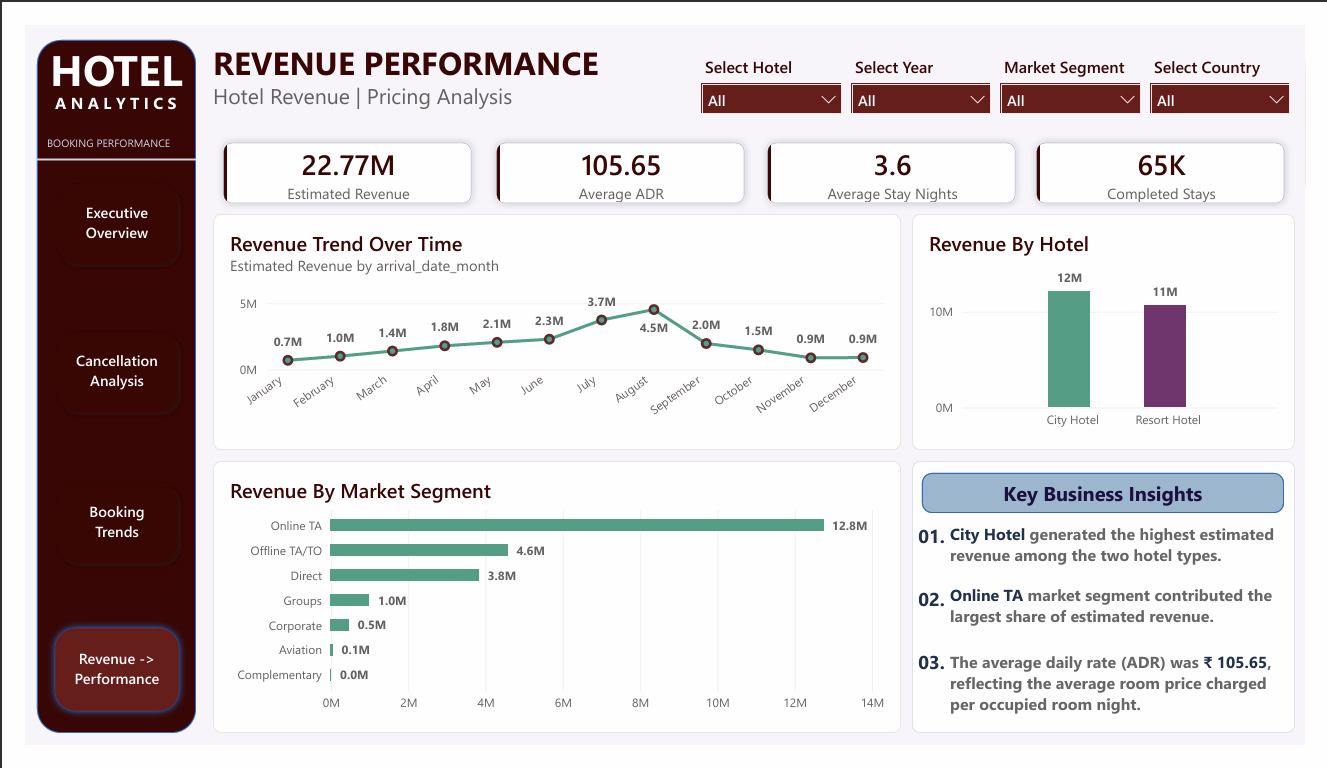

What the dashboard file says about the page in this screenshot:
{"tool":"powerbi","page":{"name":"Revenue Performance","canvas":[1280,720],"ordinal":3},"visuals":[{"type":"textbox","box":[186.6,13.7,1082.7,81],"z":0},{"type":"textbox","box":[186.6,54.9,465.2,39.8],"z":1000},{"type":"shape","box":[11,13.7,159.2,693],"z":2000},{"type":"textbox","box":[11,13.7,159.2,65.9],"z":3000},{"type":"textbox","box":[20.6,105.7,149.6,28.8],"z":4000},{"type":"shape","box":[11,119.4,159.2,28.8],"z":5000},{"type":"actionButton","box":[20.6,148.2,140,98.8],"z":6000},{"type":"textbox","box":[28.8,65.9,141.3,28.8],"z":7000},{"type":"actionButton","box":[20.6,296.4,140,98.8],"z":8000},{"type":"actionButton","box":[20.6,447.3,140,98.8],"z":9000},{"type":"actionButton","box":[20.6,594.2,140,98.8],"z":10000},{"type":"cardVisual","fields":{"Data":["Hotel Measures.Estimated Revenue"]},"box":[186.6,105.7,269,82.3],"z":11000},{"type":"slicer","fields":{"Values":["public hotel_bookings_unique.hotel"]},"box":[671,30.2,149.6,64.5],"z":12000},{"type":"slicer","fields":{"Values":["public hotel_bookings_unique.arrival_date_year"]},"box":[820.6,30.2,149.6,64.5],"z":13000},{"type":"slicer","fields":{"Values":["public hotel_bookings_unique.country"]},"box":[1119.7,30.2,149.6,64.5],"z":14000},{"type":"slicer","fields":{"Values":["public hotel_bookings_unique.market_segment"]},"box":[970.2,30.2,149.6,64.5],"z":15000},{"type":"cardVisual","fields":{"Data":["Hotel Measures.Average ADR"]},"box":[459.7,105.7,269,82.3],"z":16000},{"type":"cardVisual","fields":{"Data":["Hotel Measures.Average Stay Nights"]},"box":[731.4,105.7,269,82.3],"z":17000},{"type":"cardVisual","fields":{"Data":["Hotel Measures.Completed Stays"]},"box":[1000.3,105.7,269,82.3],"z":18000},{"type":"textbox","title":"Key Insights","box":[886.5,435,382.8,271.7],"z":19000},{"type":"shape","box":[896.1,447.3,362.3,39.8],"z":20000},{"type":"lineChart","title":"Revenue Trend Over Time","fields":{"Category":["public hotel_bookings_unique.arrival_date_month"],"Y":["Hotel Measures.Estimated Revenue"]},"box":[186.6,188,688.9,236],"z":21000},{"type":"clusteredColumnChart","title":"Revenue By Hotel","fields":{"Category":["public hotel_bookings_unique.hotel"],"Y":["Hotel Measures.Estimated Revenue"]},"box":[886.5,188,382.8,236],"z":22000},{"type":"clusteredBarChart","title":"Revenue By Market Segment","fields":{"Category":["public hotel_bookings_unique.market_segment"],"Y":["Hotel Measures.Estimated Revenue"]},"box":[186.6,435,688.9,271.7],"z":23000},{"type":"textbox","box":[924.3,497,333.6,49.4],"z":24000},{"type":"textbox","box":[924.3,558.3,333.6,54.5],"z":25000},{"type":"textbox","box":[886.8,497,37.4,195.7],"z":26000},{"type":"textbox","box":[924.3,624.7,333.6,68.1],"z":27000}]}

Visuals, with their boxes in screenshot pixels (x1, y1, x2, y2), scaled from the page's 1280x720 canvas onto the 1327x768 screenshot:
textbox: locate(193, 15, 1316, 101)
textbox: locate(193, 59, 676, 101)
shape: locate(11, 15, 176, 754)
textbox: locate(11, 15, 176, 85)
textbox: locate(21, 113, 176, 143)
shape: locate(11, 127, 176, 158)
actionButton: locate(21, 158, 166, 263)
textbox: locate(30, 70, 176, 101)
actionButton: locate(21, 316, 166, 422)
actionButton: locate(21, 477, 166, 583)
actionButton: locate(21, 634, 166, 739)
cardVisual - Hotel Measures.Estimated Revenue: locate(193, 113, 472, 201)
slicer - public hotel_bookings_unique.hotel: locate(696, 32, 851, 101)
slicer - public hotel_bookings_unique.arrival_date_year: locate(851, 32, 1006, 101)
slicer - public hotel_bookings_unique.country: locate(1161, 32, 1316, 101)
slicer - public hotel_bookings_unique.market_segment: locate(1006, 32, 1161, 101)
cardVisual - Hotel Measures.Average ADR: locate(477, 113, 755, 201)
cardVisual - Hotel Measures.Average Stay Nights: locate(758, 113, 1037, 201)
cardVisual - Hotel Measures.Completed Stays: locate(1037, 113, 1316, 201)
"Key Insights" textbox: locate(919, 464, 1316, 754)
shape: locate(929, 477, 1305, 520)
"Revenue Trend Over Time" lineChart: locate(193, 201, 908, 452)
"Revenue By Hotel" clusteredColumnChart: locate(919, 201, 1316, 452)
"Revenue By Market Segment" clusteredBarChart: locate(193, 464, 908, 754)
textbox: locate(958, 530, 1304, 583)
textbox: locate(958, 596, 1304, 654)
textbox: locate(919, 530, 958, 739)
textbox: locate(958, 666, 1304, 739)
